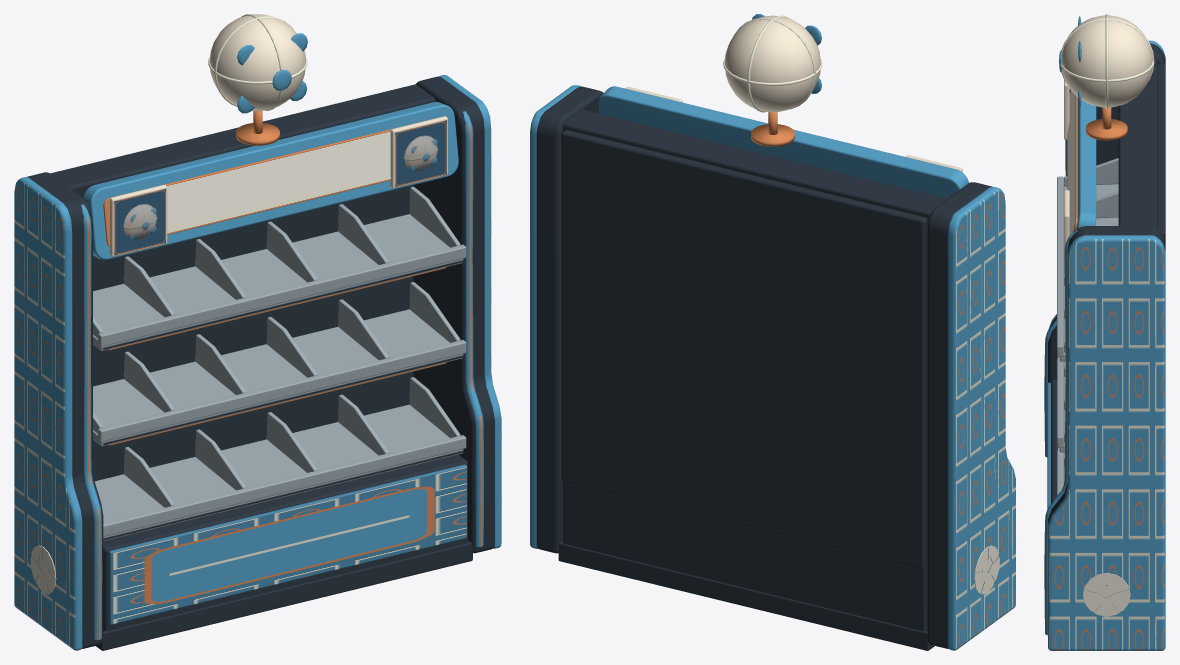
The model's file is TH_SPORT.fbx.
3 views of the same model, side by side, from view 1: azimuth 30°, elevation 25°; view 2: azimuth 150°, elevation 25°; view 3: azimuth 270°, elevation 25° (orthographic). The views are drawn at different scales.
Parts seen in each view (by area): view 1: BaseFrontInset, Left_PaintedPanel, BackPanel.001, Right_StructuralWall, Tray_01, Tray_02, Tray_03, HeaderFace, HeaderBorder, TopCrossRail, Left_StructuralWall, ClosedSolidBase (+34 smaller); view 2: BackPanel.001, Left_PaintedPanel, ClosedSolidBase, Right_StructuralWall, HeaderBorder, Left_StructuralWall, TopCrossRail, LowerPlinth, Sports ball, Right_PaintedPanel, Rounded relief.002, TopperMount; view 3: Right_PaintedPanel, Sports ball, TopCrossRail, HeaderBorder, Rounded relief.003, Left_StructuralWall, HeaderFace, BackPanel.001, FrontLip_01, RightHousing, Right_StructuralWall, ClosedSolidBase (+15 smaller).
Boxes of the visible parts, box(x1,y1,x2,y2) form: BaseFrontInset: box(109, 464, 466, 624); Left_PaintedPanel: box(14, 177, 82, 650); BackPanel.001: box(93, 185, 413, 481); Right_StructuralWall: box(413, 76, 494, 553); Tray_01: box(93, 214, 463, 350); Tray_02: box(93, 309, 463, 446); Tray_03: box(94, 404, 463, 541); HeaderFace: box(103, 118, 448, 246); HeaderBorder: box(83, 102, 458, 259); TopCrossRail: box(50, 84, 435, 197); Left_StructuralWall: box(27, 172, 103, 648); ClosedSolidBase: box(103, 454, 467, 631); BackPanel.001: box(561, 130, 927, 569); Left_PaintedPanel: box(948, 187, 1015, 650); ClosedSolidBase: box(563, 482, 927, 631); Right_StructuralWall: box(536, 86, 603, 553); HeaderBorder: box(598, 86, 968, 198); Left_StructuralWall: box(927, 182, 992, 648); TopCrossRail: box(562, 109, 947, 224); LowerPlinth: box(558, 541, 934, 650); Sports ball: box(724, 15, 820, 112); Right_PaintedPanel: box(530, 85, 581, 548); Rounded relief.002: box(974, 545, 999, 594); TopperMount: box(751, 124, 794, 146); Right_PaintedPanel: box(1048, 235, 1165, 650); Sports ball: box(1061, 15, 1152, 107); TopCrossRail: box(1118, 57, 1157, 228); HeaderBorder: box(1076, 97, 1096, 229); Rounded relief.003: box(1083, 573, 1130, 616); Left_StructuralWall: box(1048, 43, 1165, 382); HeaderFace: box(1067, 90, 1077, 235); BackPanel.001: box(1158, 64, 1165, 241); FrontLip_01: box(1057, 176, 1064, 356); RightHousing: box(1044, 230, 1077, 635); Right_StructuralWall: box(1048, 226, 1165, 524); ClosedSolidBase: box(1051, 379, 1056, 503).
Bounding box in the file's own units: 3.62 × 4.56 × 0.9273.
